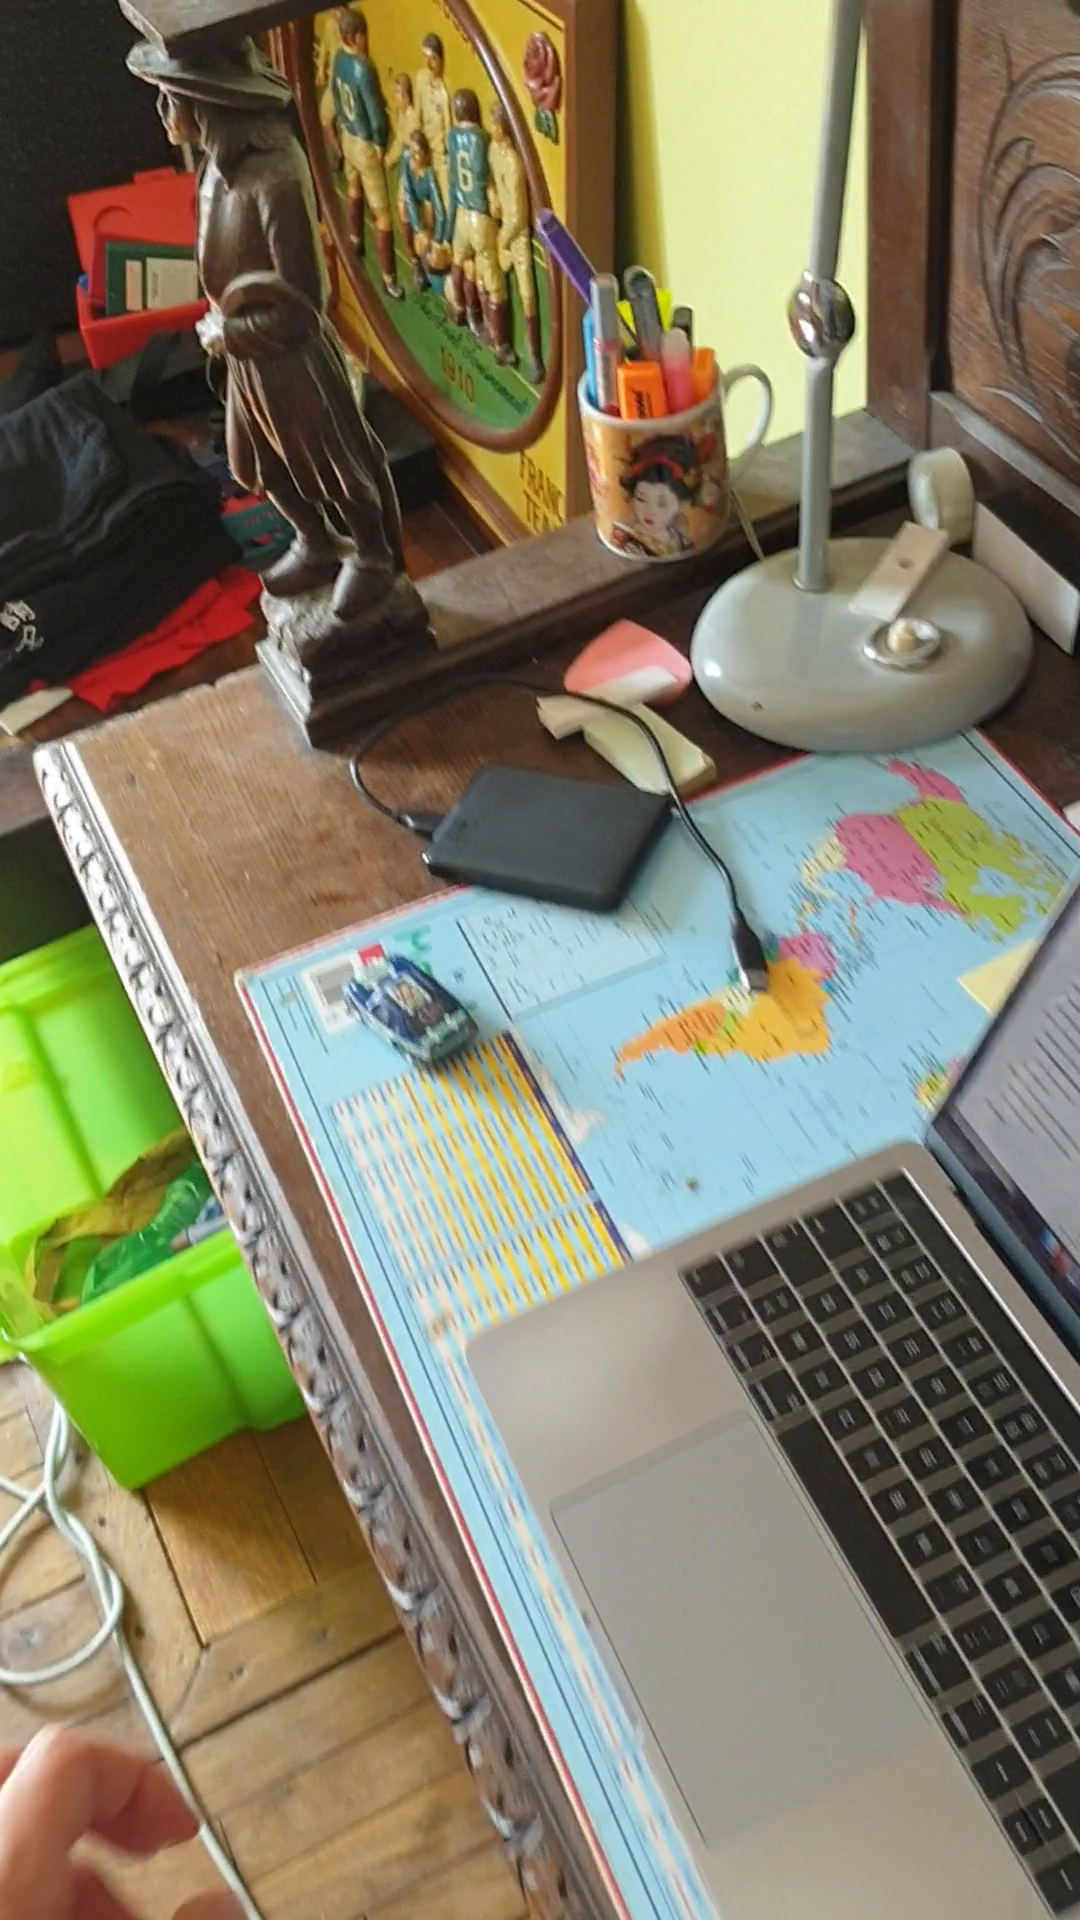cars: (345, 956, 480, 1069)
